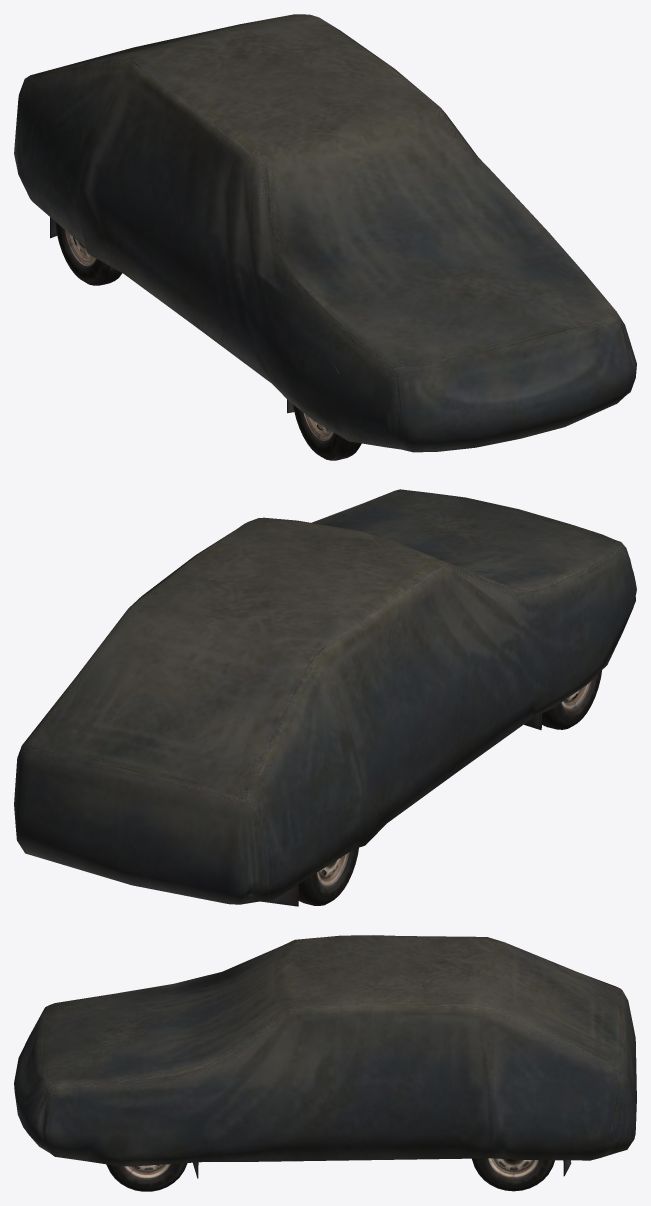
The model's file is covered_car.glb.
3 views of the same model, one above another, from view 1: azimuth 30°, elevation 25°; view 2: azimuth 150°, elevation 25°; view 3: azimuth 270°, elevation 25° (orthographic). The views are drawn at different scales.
Visible parts, largest first — view 1: covered_car, covered_car_wheel_03, covered_car_wheel_02; view 2: covered_car, covered_car_wheel_03, covered_car_wheel_02; view 3: covered_car, covered_car_wheel_04, covered_car_wheel_01.
Part boxes in pixels (x1,y1,x2,y2): covered_car: (14, 14, 636, 452); covered_car_wheel_03: (55, 222, 122, 285); covered_car_wheel_02: (293, 405, 361, 460); covered_car: (14, 489, 636, 906); covered_car_wheel_03: (298, 847, 358, 905); covered_car_wheel_02: (542, 670, 601, 729); covered_car: (14, 935, 636, 1178); covered_car_wheel_04: (472, 1158, 554, 1191); covered_car_wheel_01: (106, 1163, 187, 1191).
Size of the model in its own units: 1.79 by 1.41 by 4.38.
2 materials, 2 textured.
